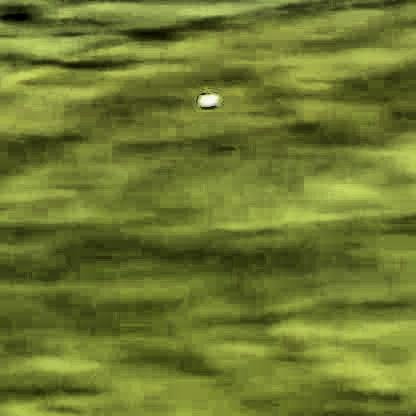golfball: (196, 91, 218, 109)
